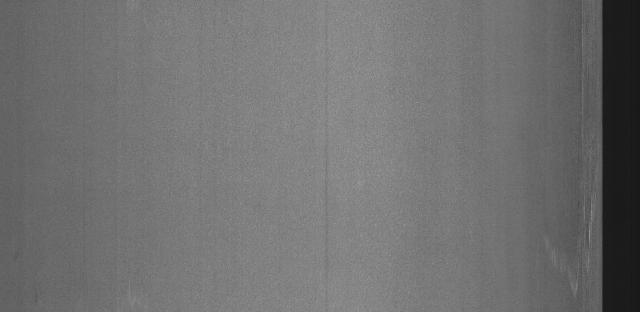silk_spot: (542, 175, 599, 299)
